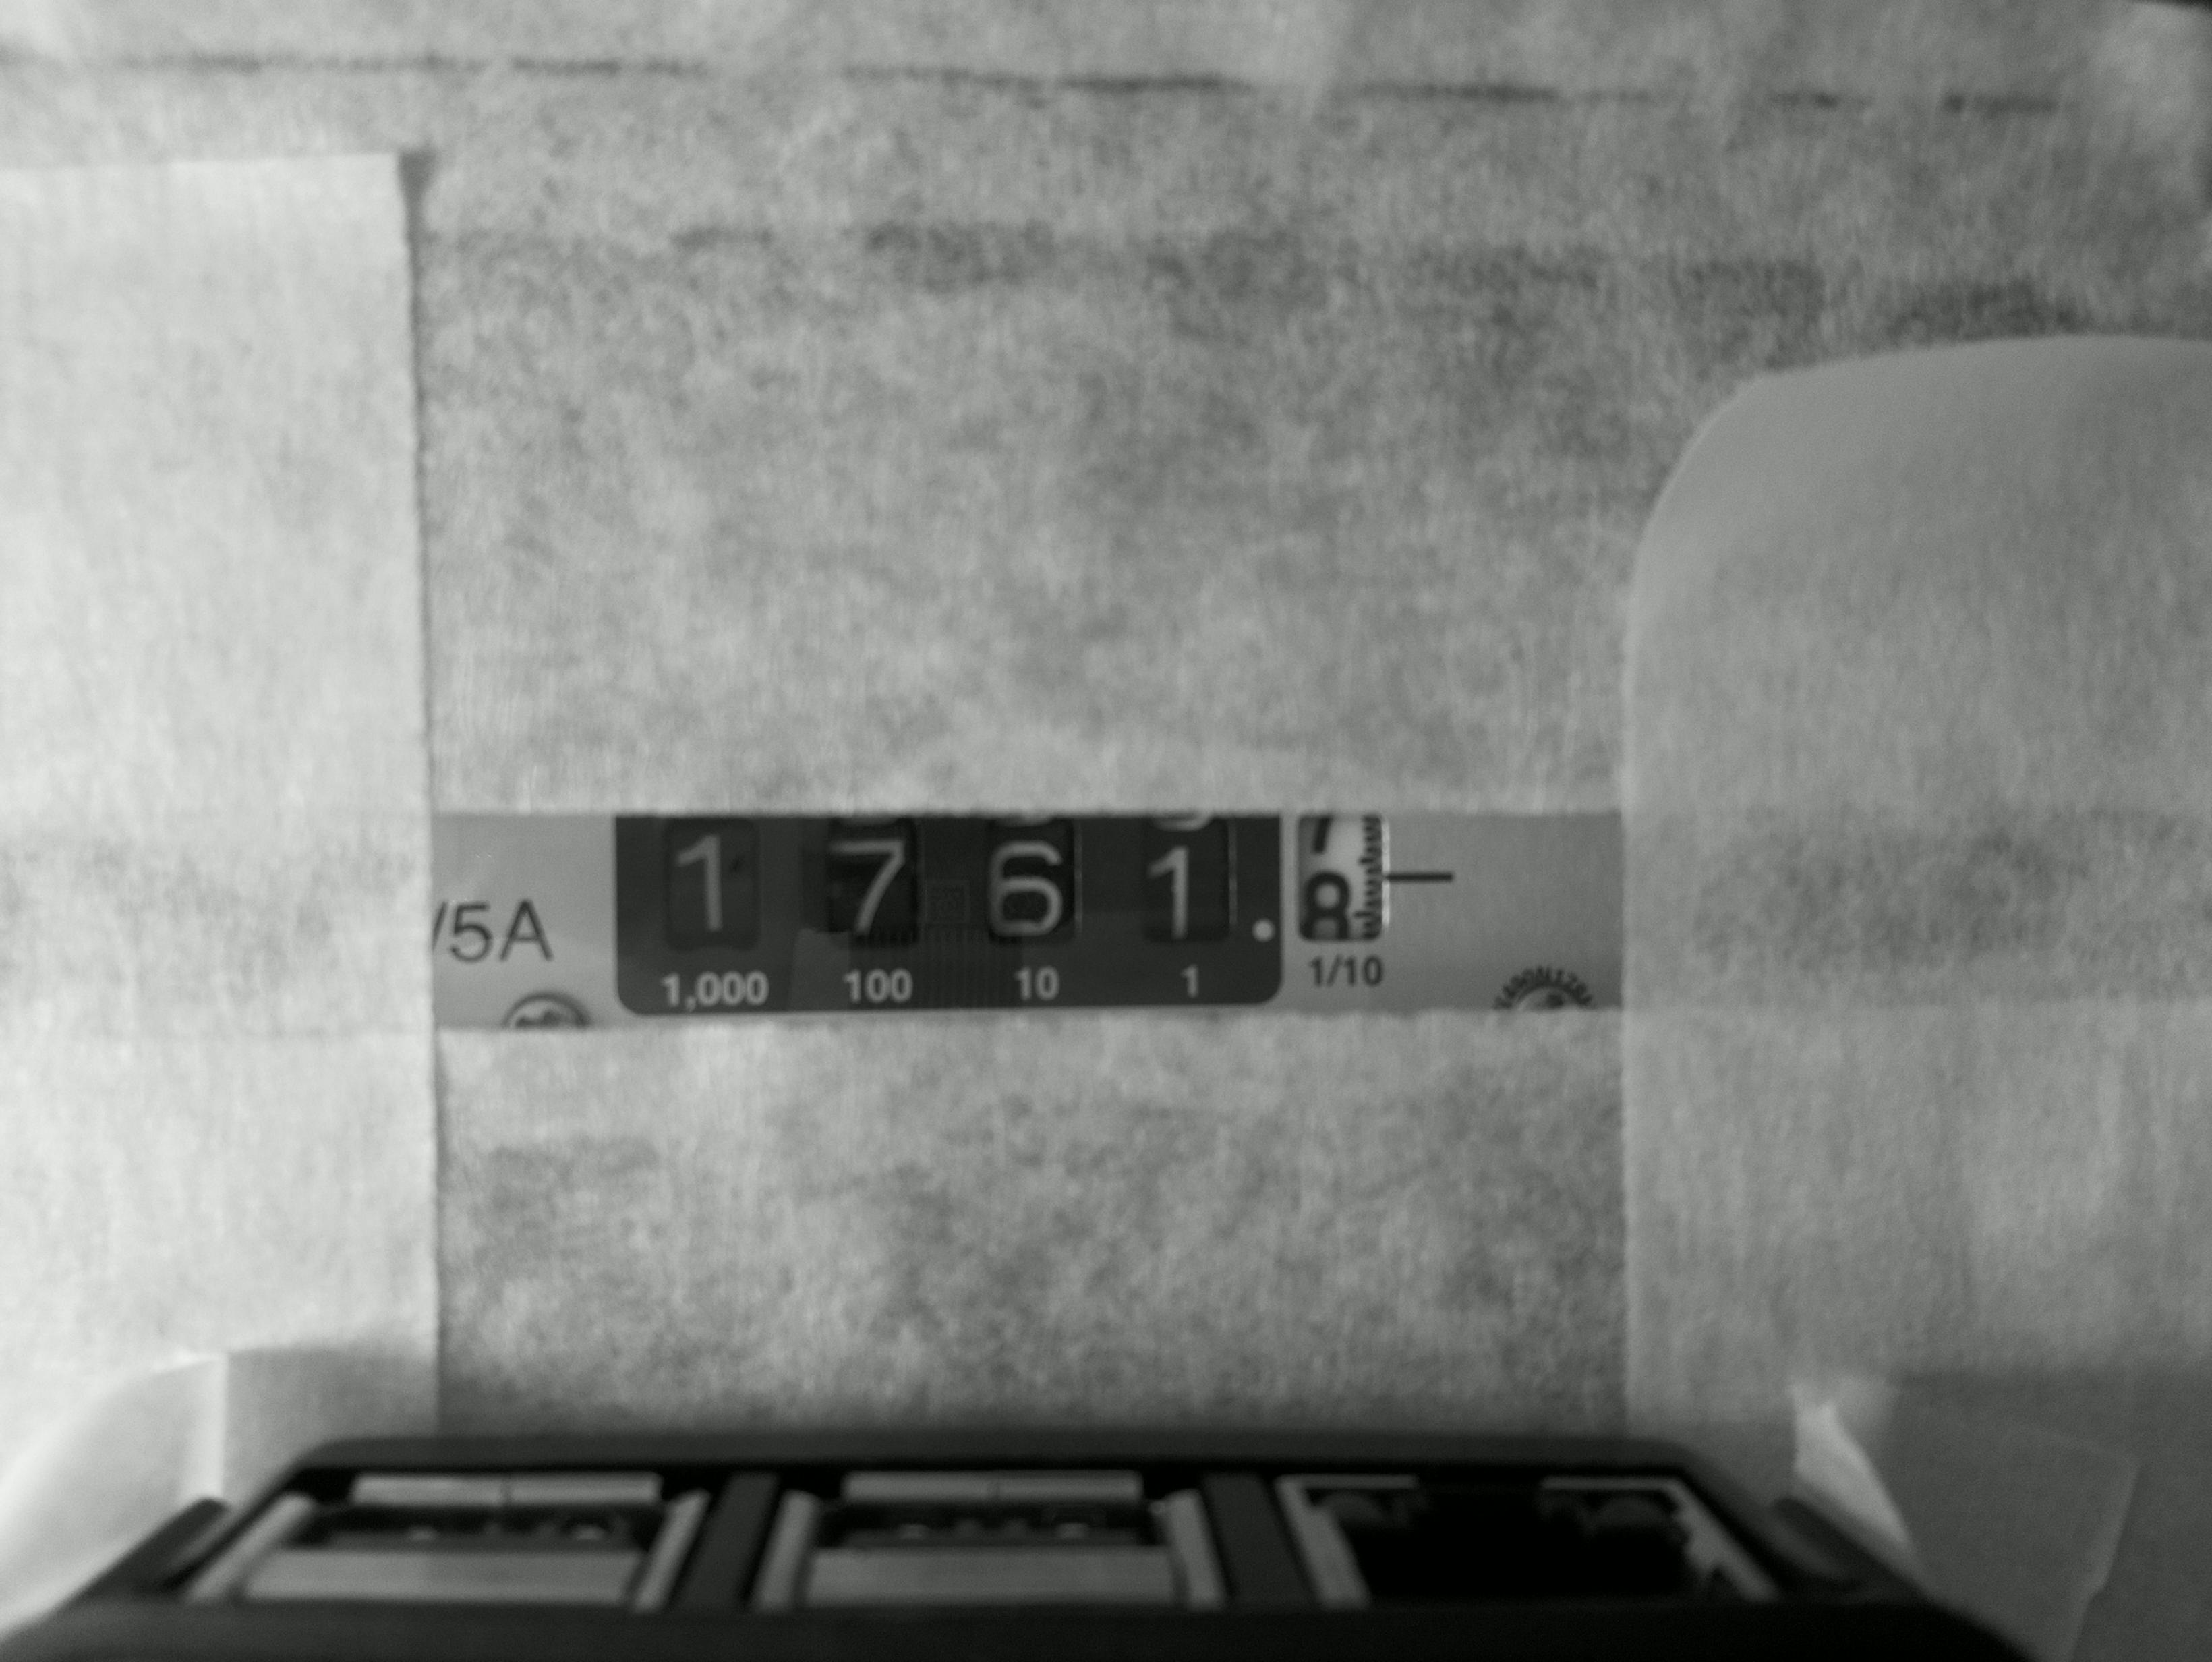meter_box: (581, 752, 1468, 1040)
